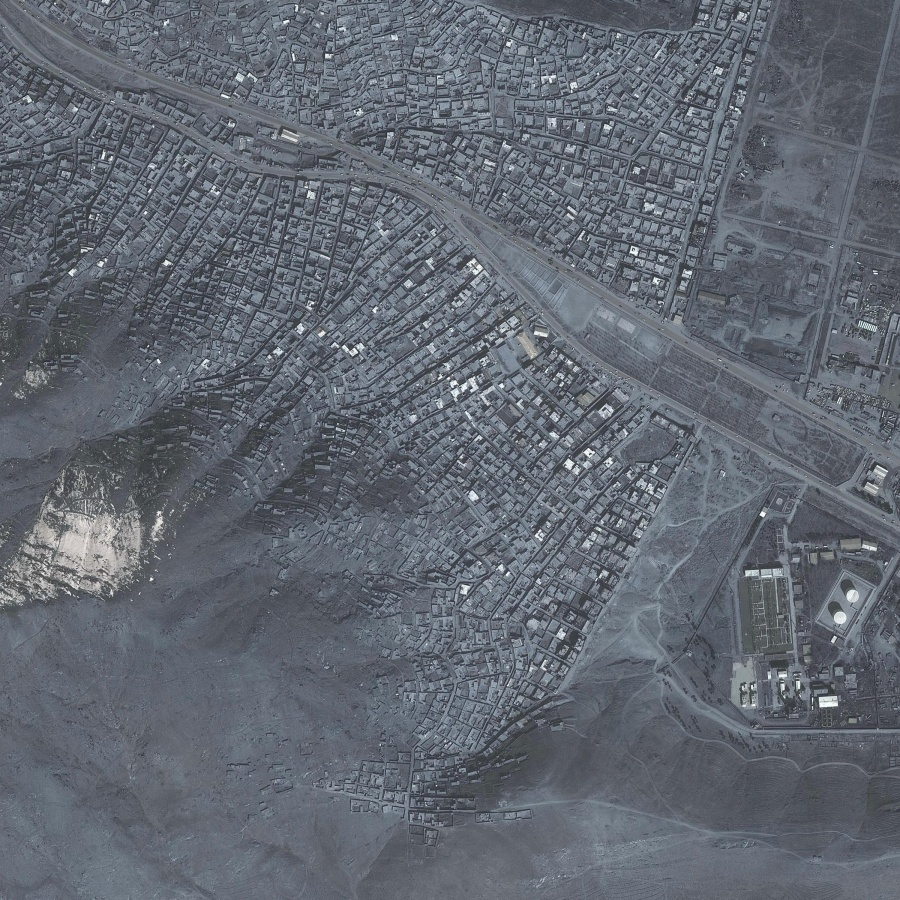PowerPlant: (740, 531, 883, 722)
